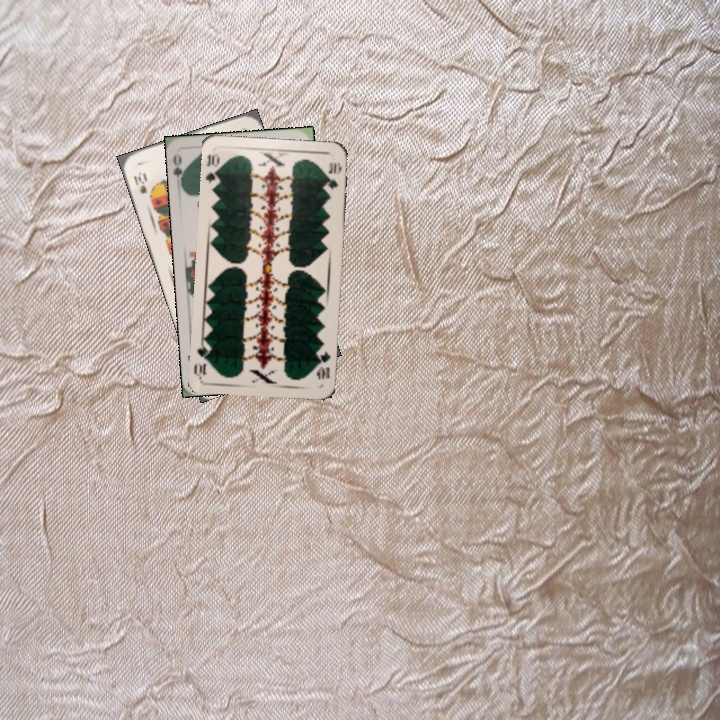G10: (202, 150, 223, 189), (312, 347, 333, 382)
GO: (169, 151, 190, 191)
S10: (130, 168, 149, 196)
